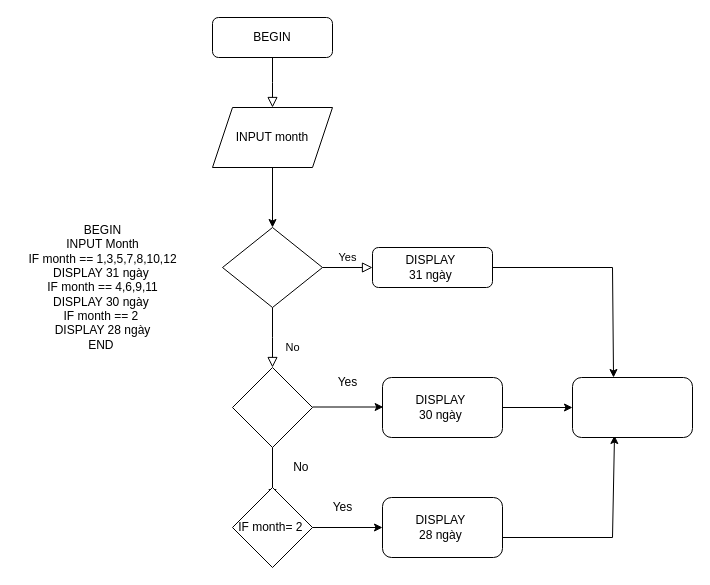
This 710x585 diagram has some shape labels left out. Each missing label, with the box of its shape:
END: (572, 376, 692, 438)
IF month = 4, 6, 9, 11: (232, 366, 312, 448)
IF month ==1,3, 5, 7, 8, 10, 12: (222, 226, 322, 308)
